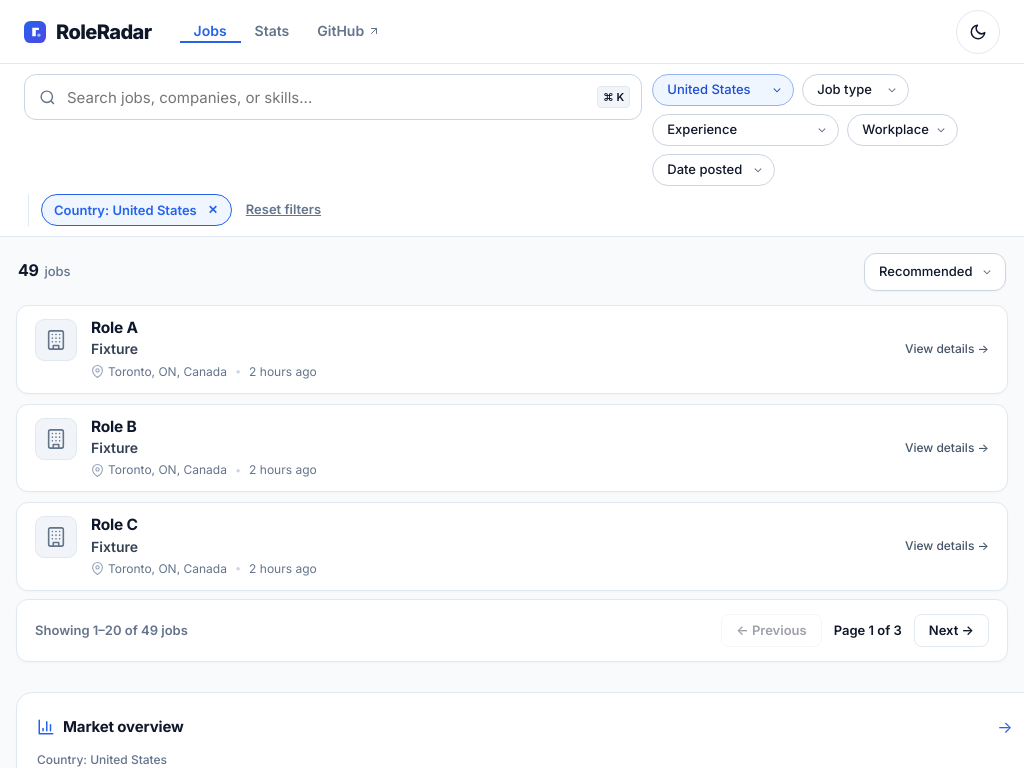
Test: every visible job count follows the selected country › a US URL loads with US totals everywhere and the Stats tab is labelled as all countries
This screenshot has width=1024, height=768.
Click the link "Stats". click: (272, 30)
box: [255, 22, 289, 39]
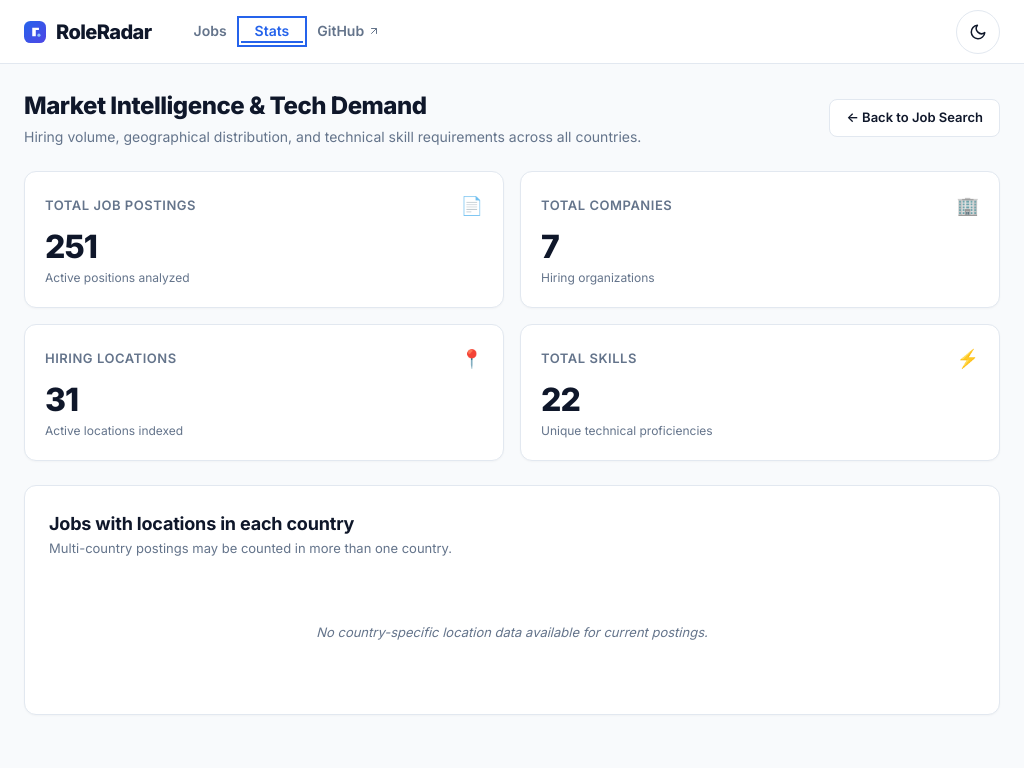
Expected: the text "across all countries" is shown, [24, 128, 641, 145]
